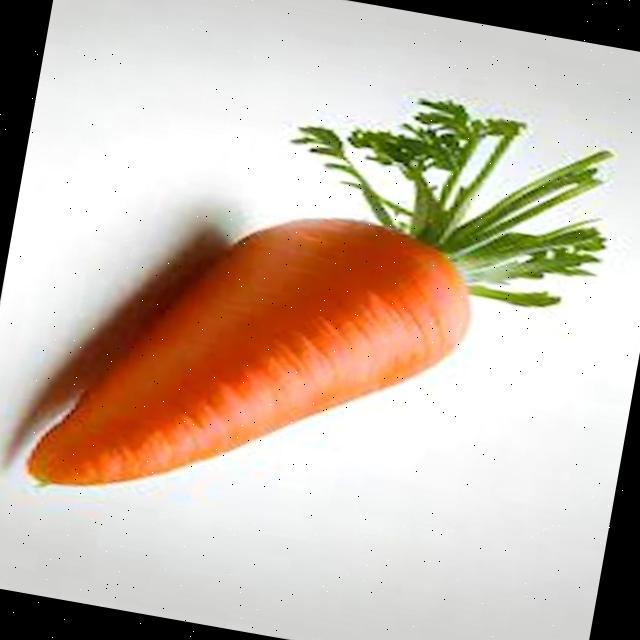carrot: (27, 100, 611, 486)
